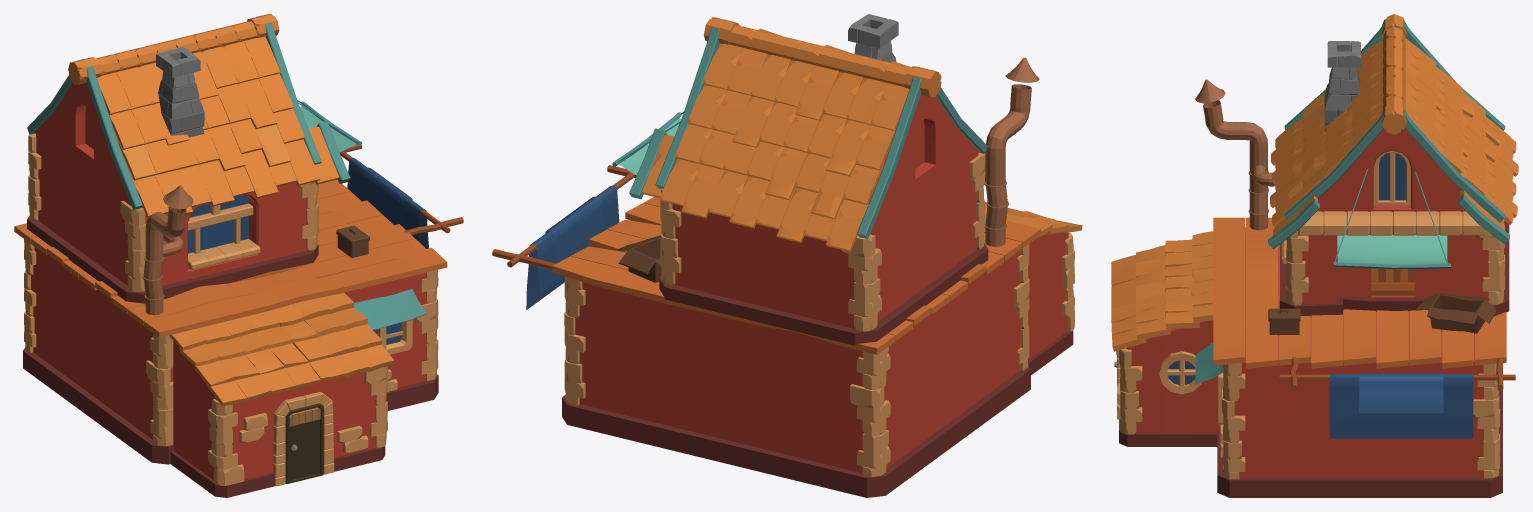
Rendered from house001.fbx.
3 views of the same model, side by side, from view 1: azimuth 30°, elevation 25°; view 2: azimuth 150°, elevation 25°; view 3: azimuth 270°, elevation 25° (orthographic). The views are drawn at different scales.
Visible parts, largest first — view 1: house001; view 2: house001; view 3: house001.
Boxes of the visible parts, x1,y1,x2,y2 form: house001: (14, 14, 463, 497); house001: (492, 14, 1082, 497); house001: (1111, 14, 1518, 497).
Bounding box in the file's own units: 992 × 954 × 1007.
